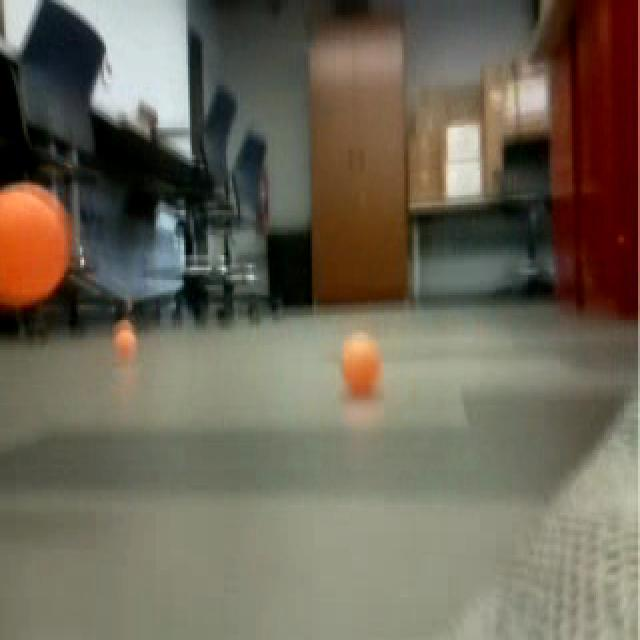oball: (0, 178, 75, 316), (334, 324, 389, 400), (109, 324, 142, 364)
